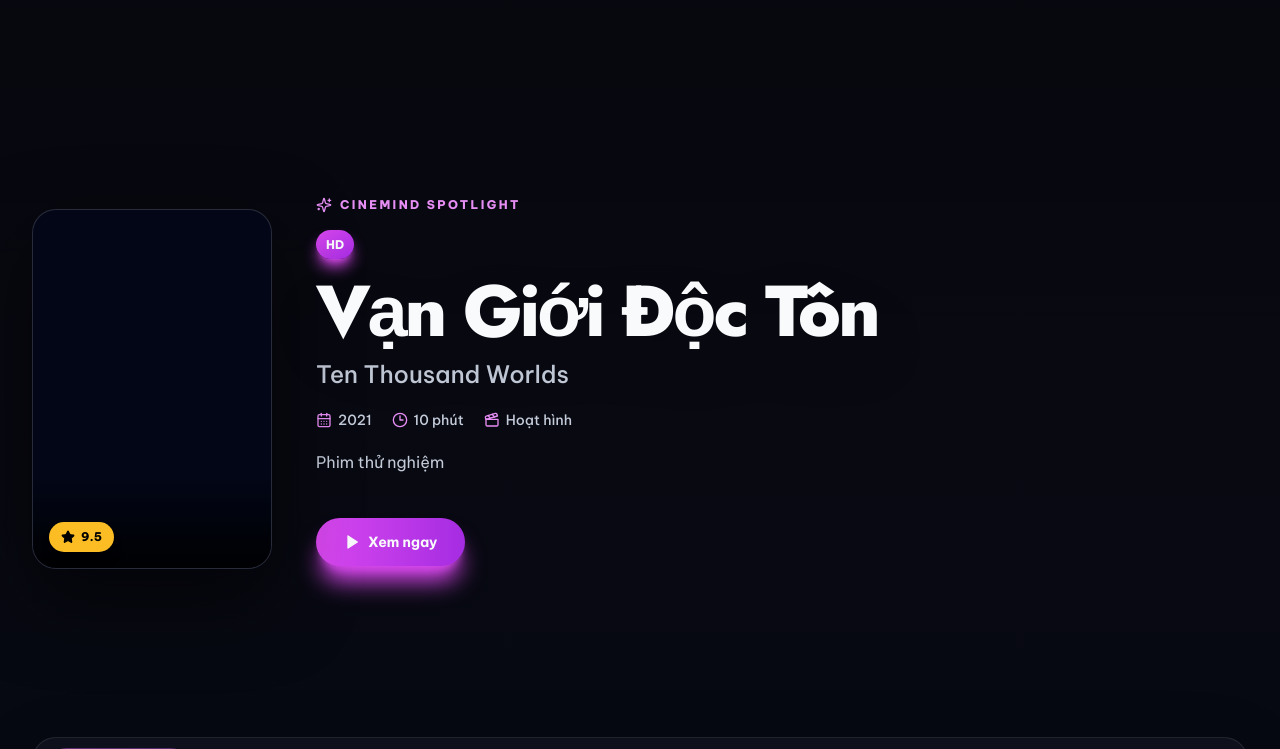
Test: movie watch-access feedback › keeps playback closed on network failure without claiming the plan is insufficient
Step 1. Click the button "Xem ngay" → (391, 542), box [316,518,465,566]
(page scrolled)
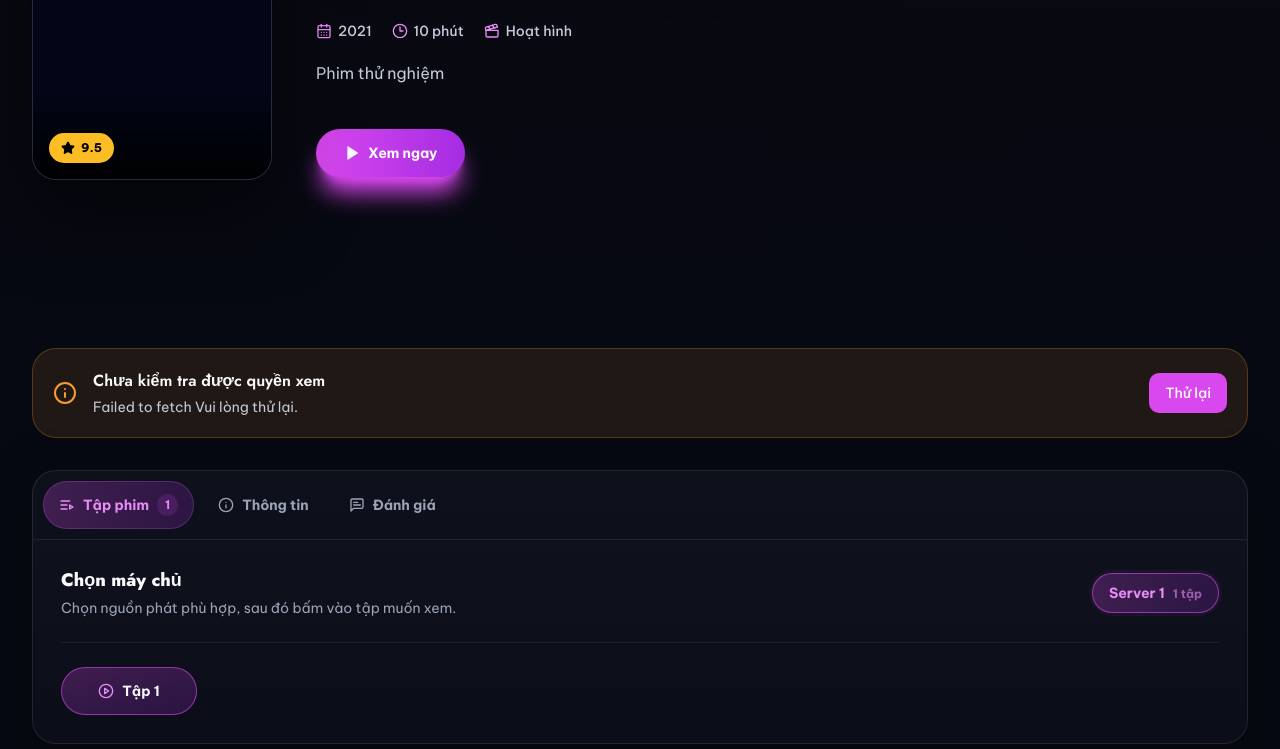
Now the button "Thử lại" is shown, box [1149,373,1227,413]
